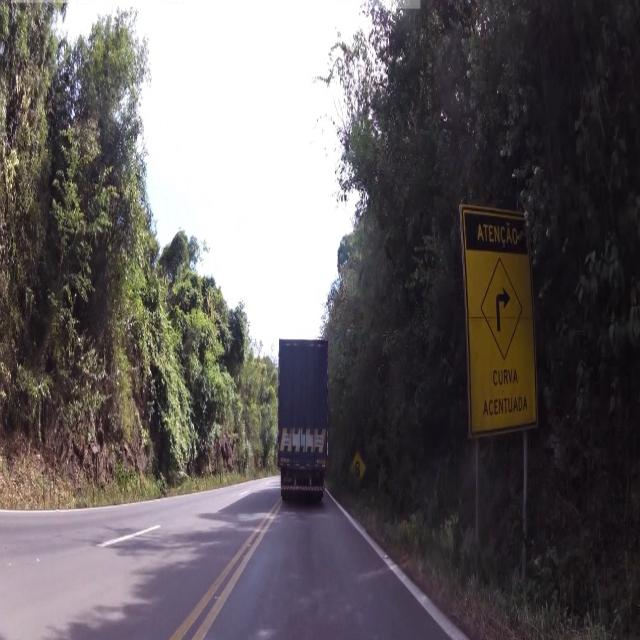A-1b: (474, 252, 529, 362)
